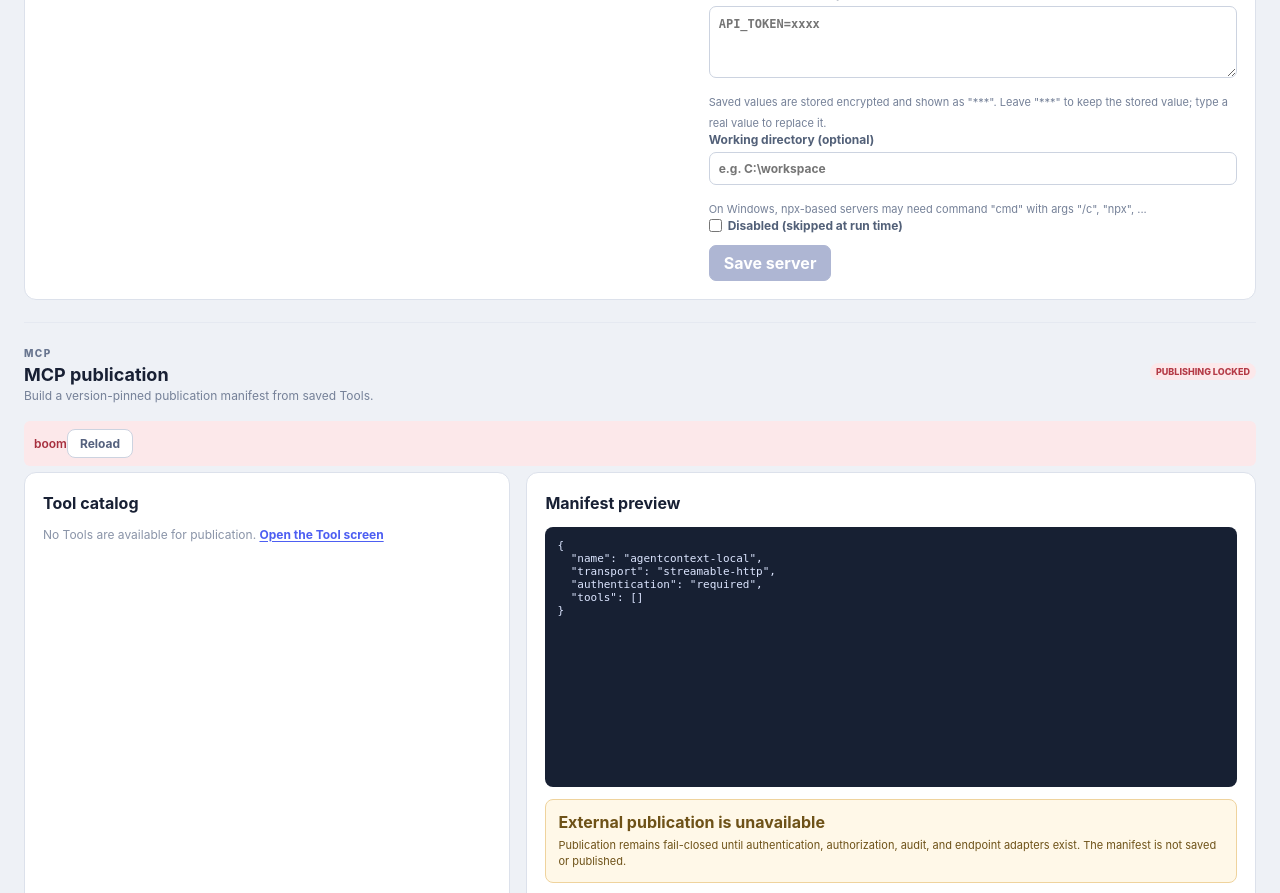
it: McpPage › 読み込み失敗時に再読み込みボタンで再取得できる
The image size is (1280, 893).
(page scrolled)
Expected: the text "boom" is shown, [34,436,67,451]
Click the button "Reload".
click(100, 443)  # box [67,429,133,458]
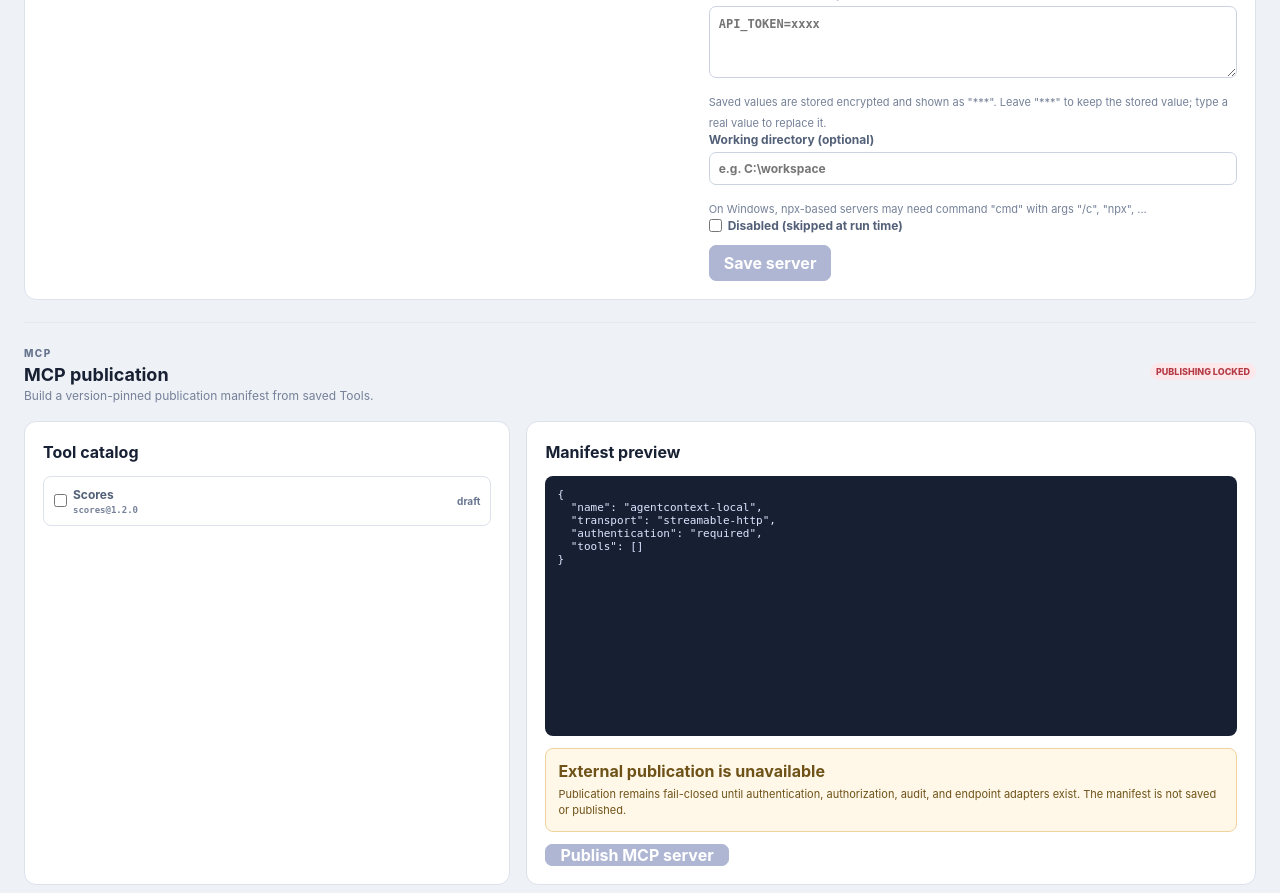
Result: the text "Scores" is shown at [73,487,114,502]
Result: the text "boom" is gone
